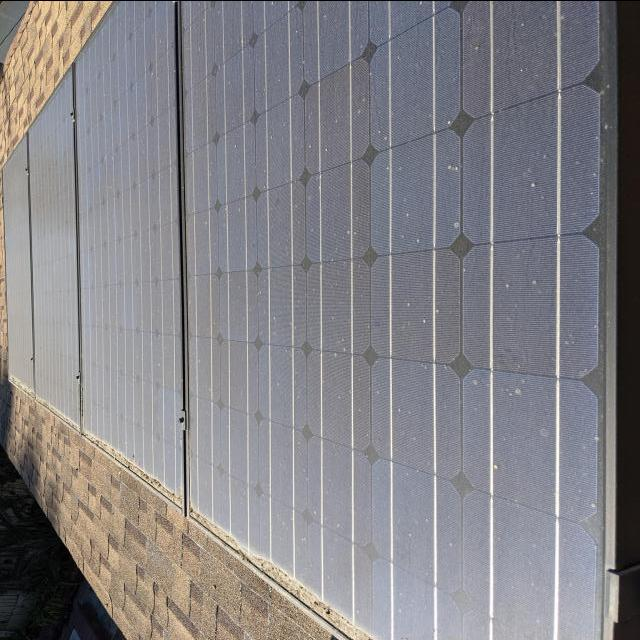soiled: (79, 4, 640, 640)
